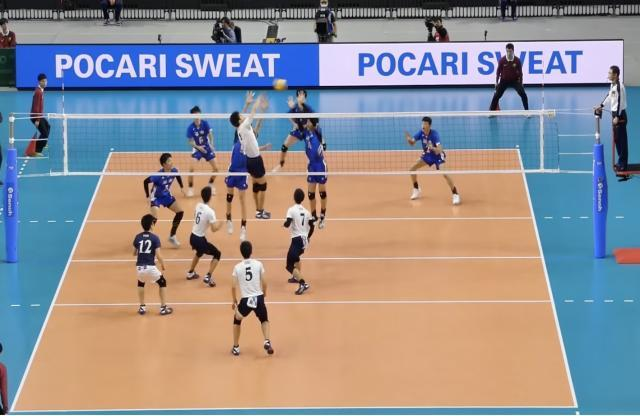spike: (228, 74, 288, 226)
